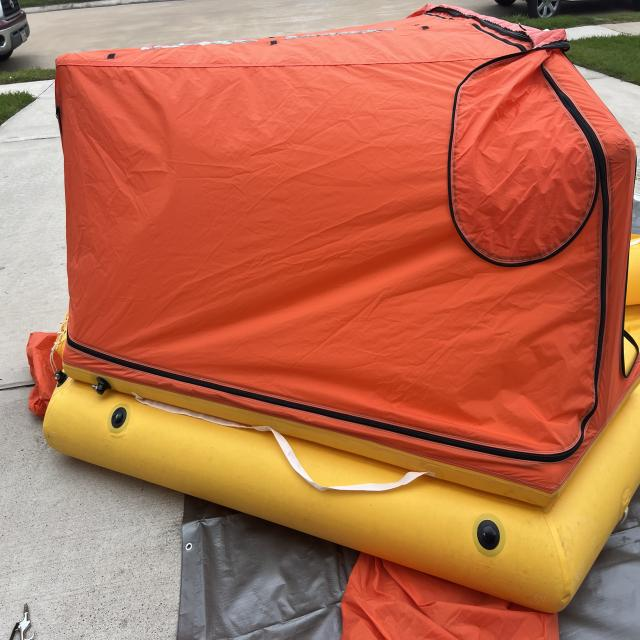Multi-person_life_raft: (28, 5, 640, 639)
